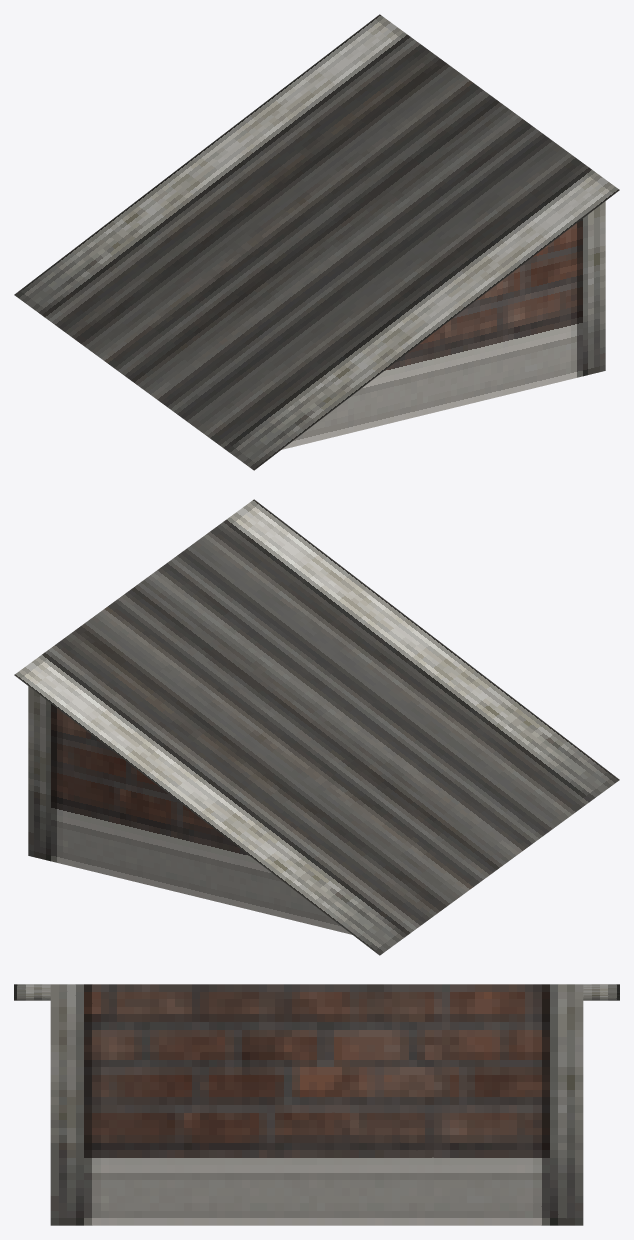
The model's file is wallA_roofSlantDetailed.fbx.
3 renders of one model, top to bottom at view 1: azimuth 30°, elevation 25°; view 2: azimuth 150°, elevation 25°; view 3: azimuth 270°, elevation 25°, orthographic. The views are drawn at different scales.
Visible parts, largest first — view 1: wallA_roofSlantDetailed; view 2: wallA_roofSlantDetailed; view 3: wallA_roofSlantDetailed.
Part boxes in pixels (bbox=[...]): wallA_roofSlantDetailed: bbox=[14, 14, 619, 470]; wallA_roofSlantDetailed: bbox=[14, 499, 619, 955]; wallA_roofSlantDetailed: bbox=[14, 984, 619, 1225].
Bounding box in the file's own units: 10 × 5 × 11.37.
